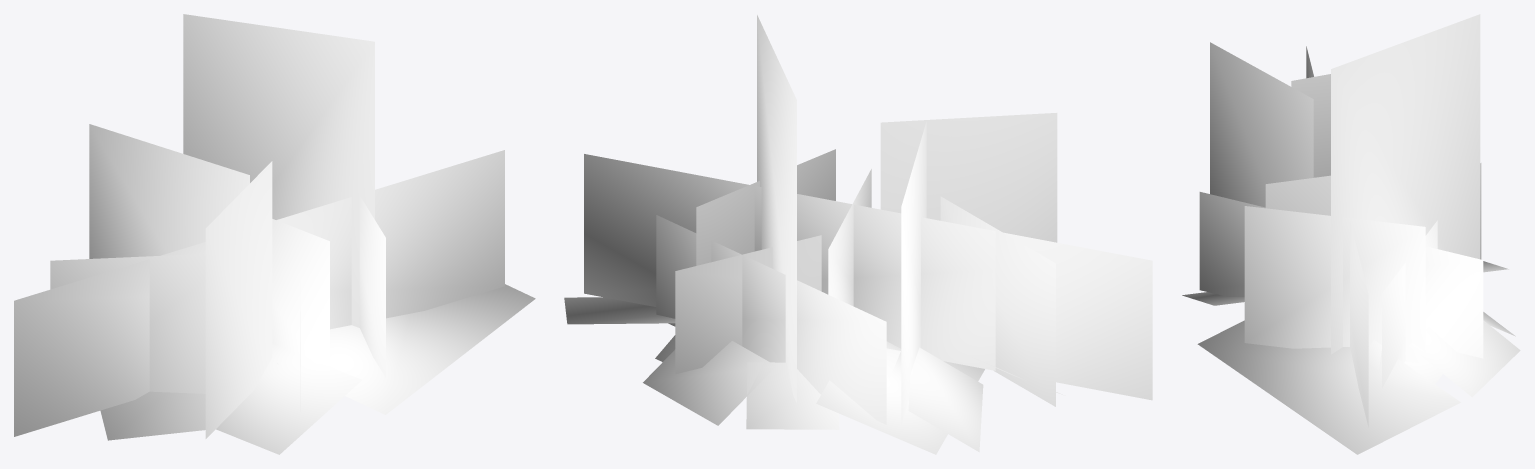
Rendered from SM_Env_Ground_Cover_01.glb.
3 renders of one model, left to right at view 1: azimuth 30°, elevation 25°; view 2: azimuth 150°, elevation 25°; view 3: azimuth 270°, elevation 25°, orthographic. The views are drawn at different scales.
Visible parts, largest first — view 1: SM_Env_Ground_Cover_01_LOD0; view 2: SM_Env_Ground_Cover_01_LOD0; view 3: SM_Env_Ground_Cover_01_LOD0.
Boxes of the visible parts, x1=… form: SM_Env_Ground_Cover_01_LOD0: x1=14, y1=14, x2=535, y2=454; SM_Env_Ground_Cover_01_LOD0: x1=564, y1=15, x2=1152, y2=454; SM_Env_Ground_Cover_01_LOD0: x1=1182, y1=14, x2=1520, y2=454.
Size of what is drawn, in the model's own units: 2.89 by 1.59 by 1.58.
Materials: 1 (1 with a texture image).
